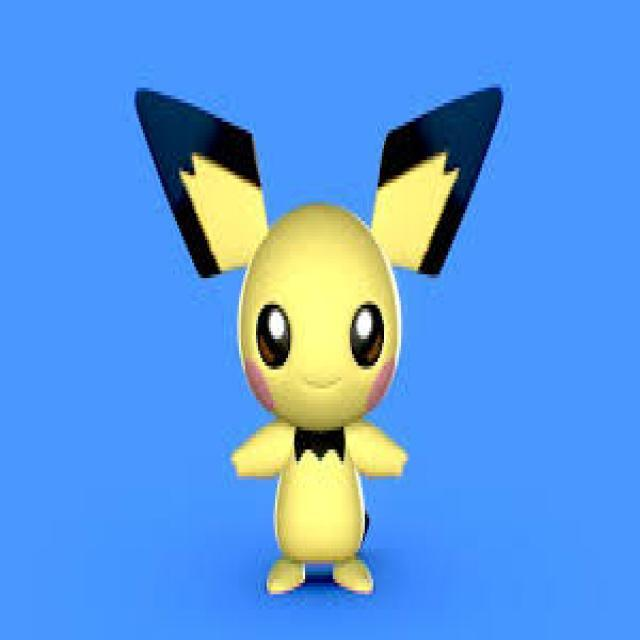pichu: (129, 43, 526, 640)
